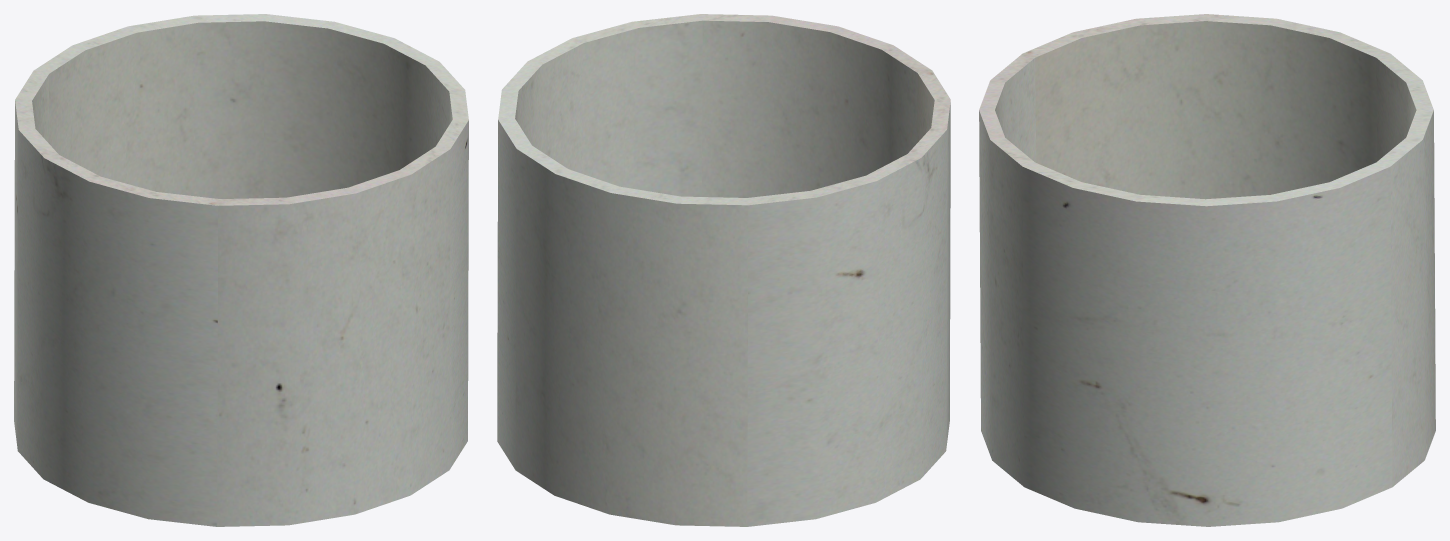
Rendered from Cup.obj.
The picture shows the model from 3 angles, left to right: view 1: azimuth 30°, elevation 25°; view 2: azimuth 150°, elevation 25°; view 3: azimuth 270°, elevation 25°; orthographic projection.
Parts seen in each view (by area): view 1: TurtleDefaultBakeLayer pPipe1; view 2: TurtleDefaultBakeLayer pPipe1; view 3: TurtleDefaultBakeLayer pPipe1.
Boxes of the visible parts, bbox=[...] form: TurtleDefaultBakeLayer pPipe1: bbox=[14, 14, 468, 526]; TurtleDefaultBakeLayer pPipe1: bbox=[497, 14, 950, 526]; TurtleDefaultBakeLayer pPipe1: bbox=[979, 14, 1435, 526].
Size of the model in its own units: 27.55 by 21.44 by 27.67.
